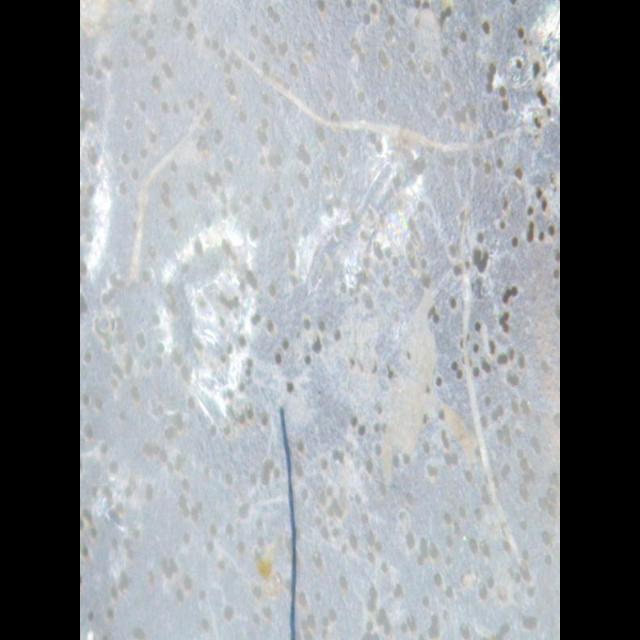Fibre: (276, 399, 304, 640)
